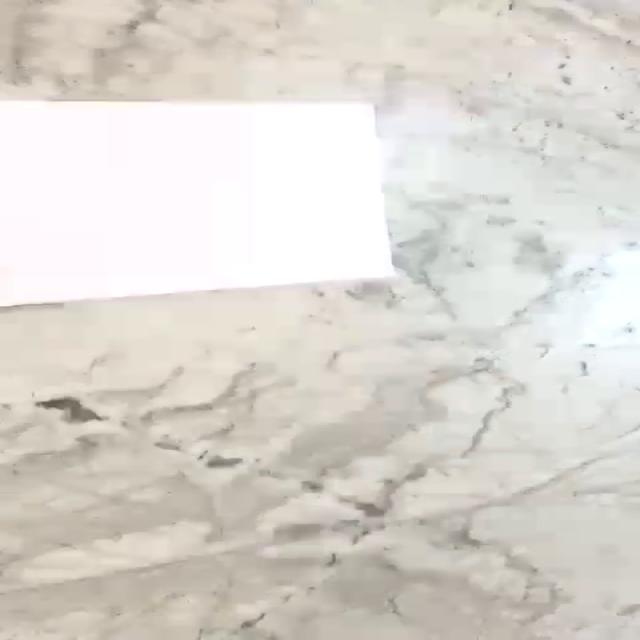road: (0, 100, 396, 309)
